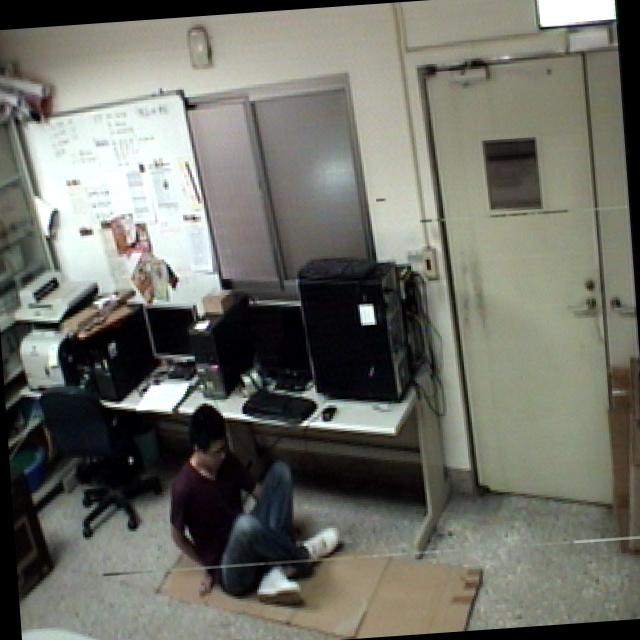sit: (151, 391, 350, 626)
